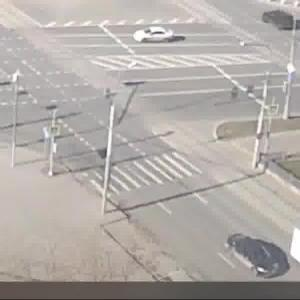car: (227, 234, 277, 278), (261, 9, 300, 32), (134, 29, 177, 45)
